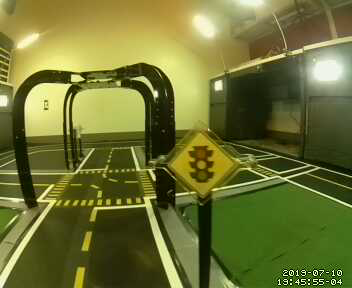Traffic light sign: (168, 128, 234, 199)
